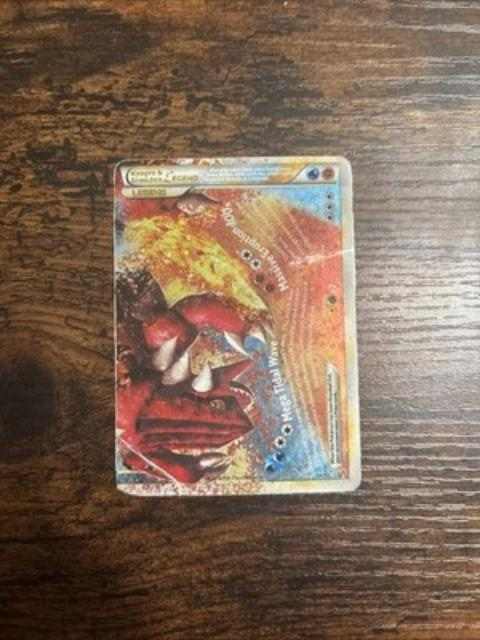Card: (109, 151, 367, 503)
Name: (128, 167, 204, 185)
